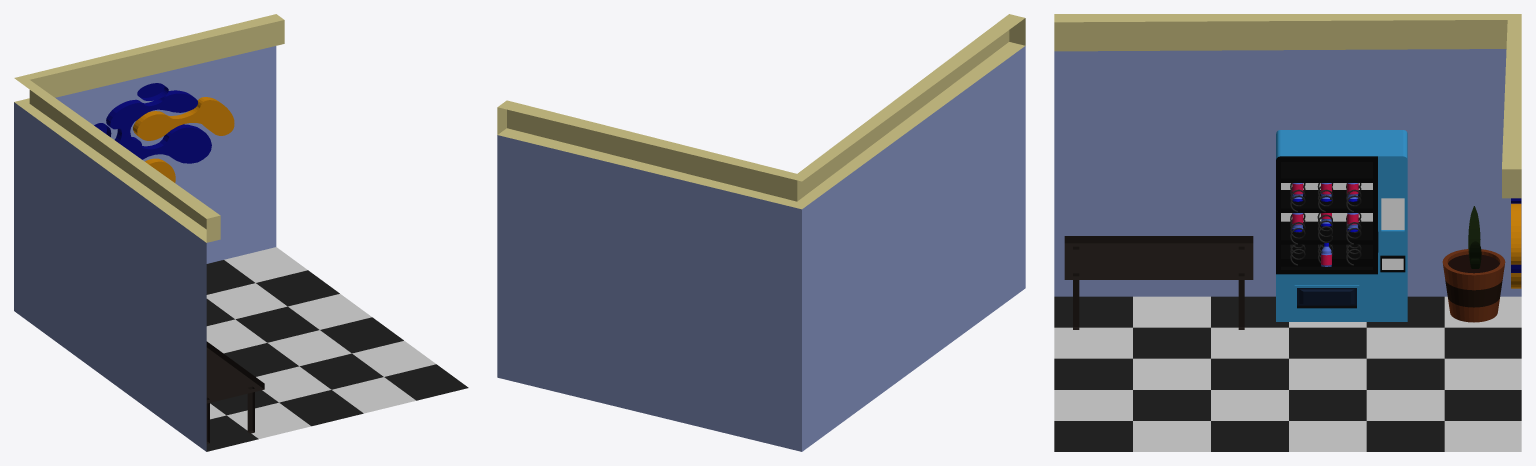
The model's file is AnimatedObject0044.obj.
3 renders of one model, left to right at view 1: azimuth 30°, elevation 25°; view 2: azimuth 150°, elevation 25°; view 3: azimuth 270°, elevation 25°, orthographic. The views are drawn at different scales.
Parts seen in each view (by area): view 1: ruangan_Cube.003, meja_Cube.004, logo_Circle.005, logo.001_Circle.001, logo.005_Circle.002; view 2: ruangan_Cube.003; view 3: ruangan_Cube.003, vending_machine_Cube.001, meja_Cube.004, pot_bunga_Cylinder, per_second\_Spiral.010, Plane.007, logo_Circle.005.
Boxes of the visible parts, x1,y1,x2,y2 form: ruangan_Cube.003: (14, 14, 468, 451); meja_Cube.004: (206, 341, 264, 444); logo_Circle.005: (133, 97, 234, 140); logo.001_Circle.001: (115, 124, 211, 163); logo.005_Circle.002: (106, 90, 197, 132); ruangan_Cube.003: (497, 14, 1025, 451); ruangan_Cube.003: (1054, 14, 1521, 451); vending_machine_Cube.001: (1276, 130, 1407, 321); meja_Cube.004: (1064, 236, 1253, 329); pot_bunga_Cylinder: (1442, 249, 1505, 322); per_second\_Spiral.010: (1290, 183, 1361, 265); Plane.007: (1468, 206, 1481, 268); logo_Circle.005: (1511, 203, 1521, 264).
Size of the model in its own units: 11.73 by 9.95 by 14.9.
